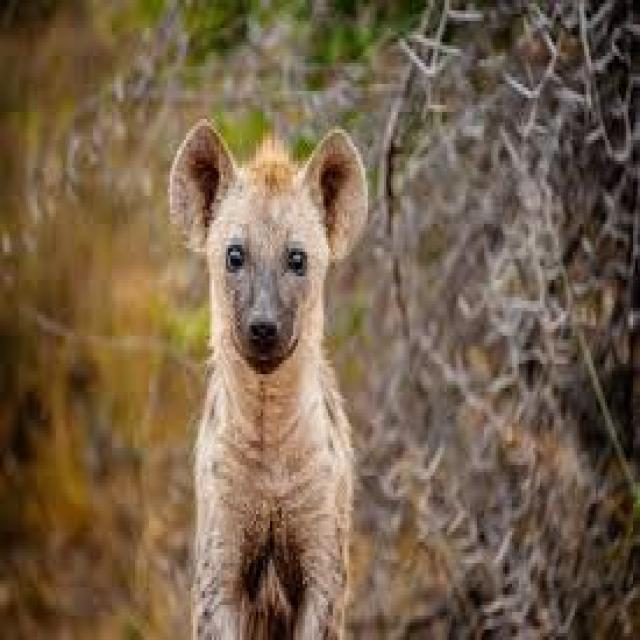Hyena: (161, 105, 376, 640)
